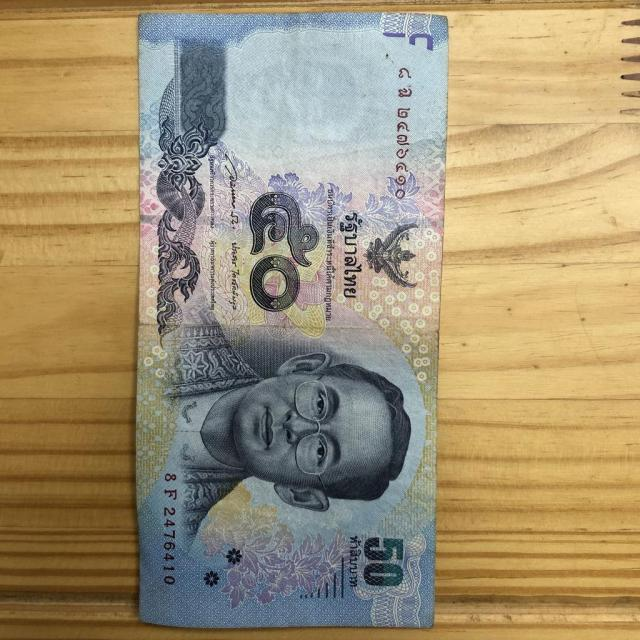THAI50: (138, 12, 447, 628)
